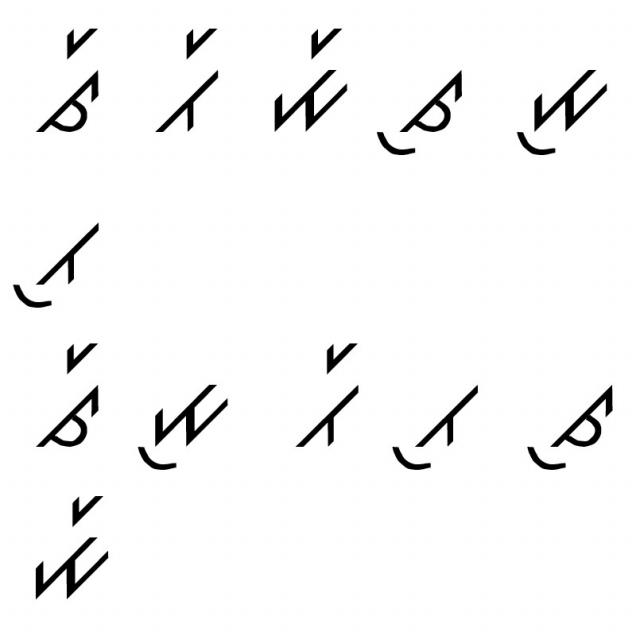bar: (290, 335, 371, 454), (155, 22, 228, 141)
baw: (386, 361, 486, 479), (7, 206, 104, 312)
car: (27, 26, 112, 141), (34, 334, 110, 450)
caw: (372, 56, 468, 163), (524, 376, 618, 474)
mar: (24, 487, 119, 603), (269, 22, 354, 136)
maw: (130, 364, 236, 474), (512, 62, 611, 160)
